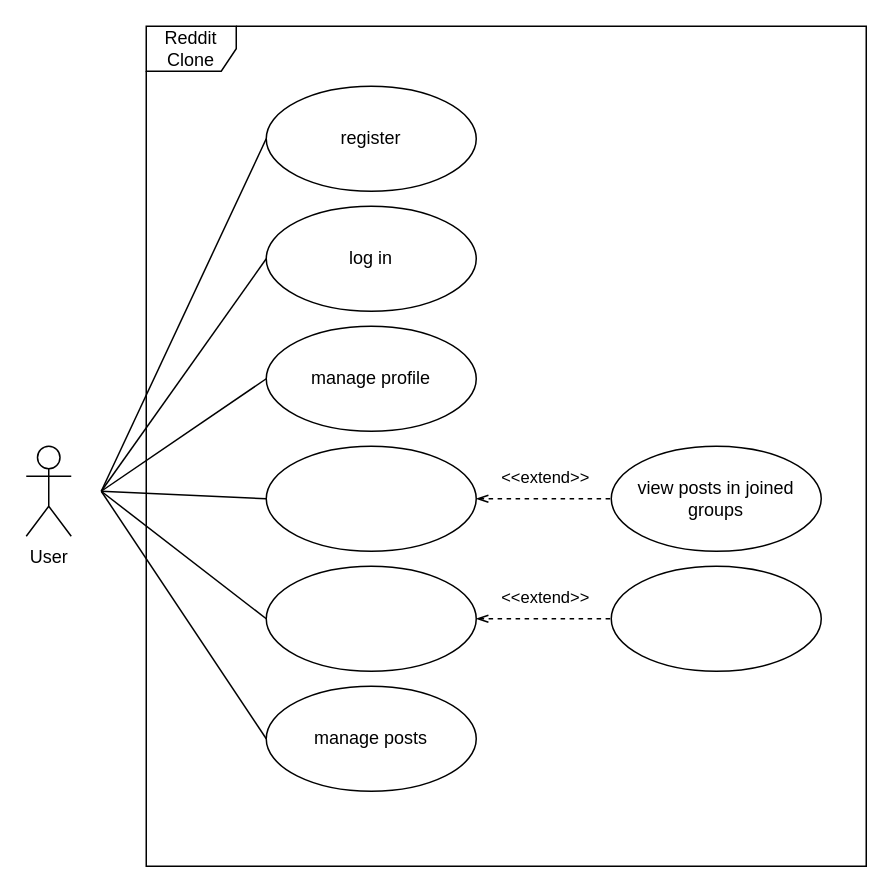
Image size: 893x893. Some labels were removed from this diagram. Here are the shapes that lost their labels. From the top down, the centre of each, then its label:
[370,498]: join group
[370,618]: follow other users
[715,618]: view posts by followed users
